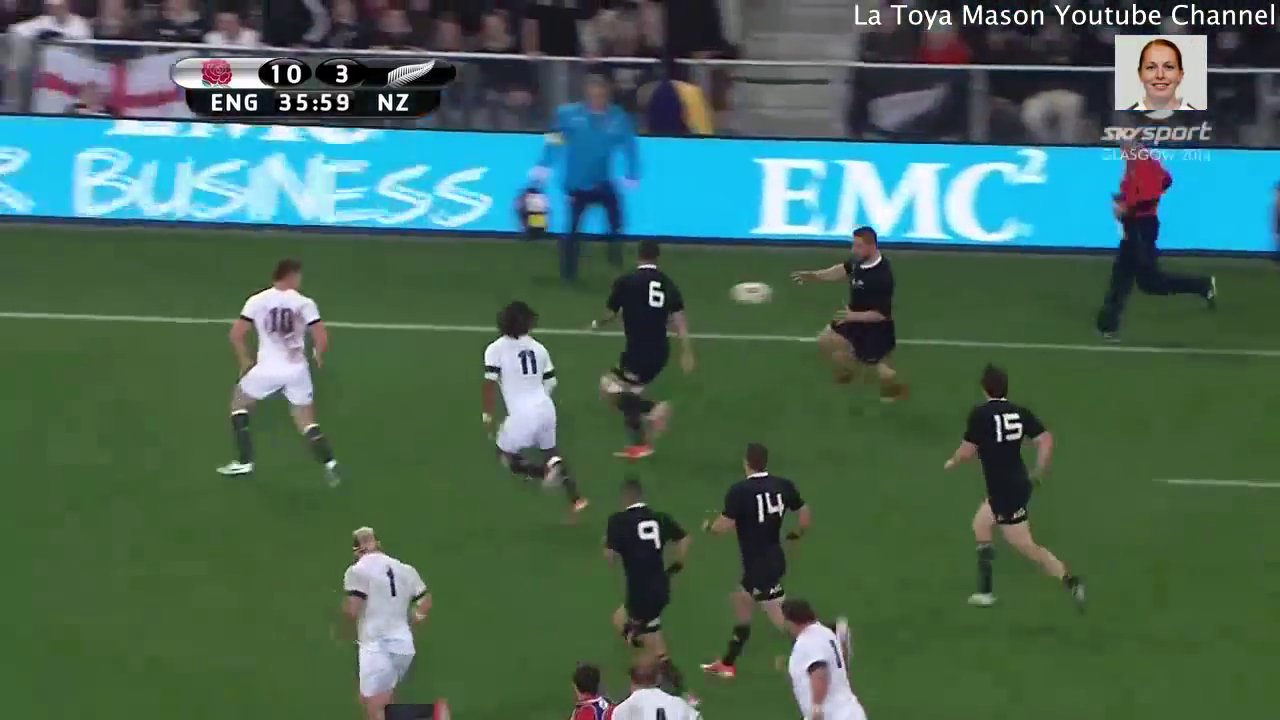player: (926, 352, 1105, 618), (692, 437, 863, 696), (209, 249, 359, 508), (469, 299, 603, 540), (780, 224, 920, 421), (330, 513, 458, 720), (592, 469, 710, 693), (591, 236, 697, 465), (770, 588, 881, 720), (605, 656, 701, 720), (553, 657, 622, 720)
